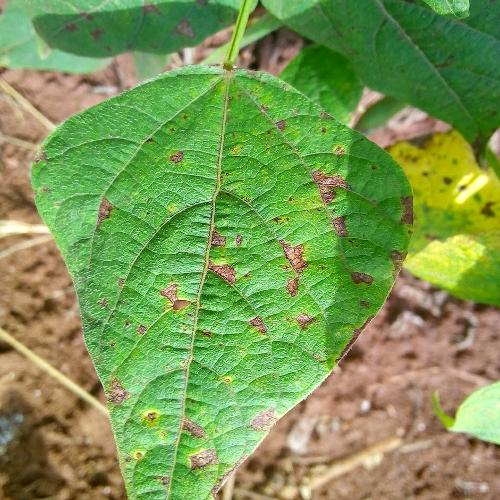hawar: (296, 153, 396, 300), (100, 373, 228, 477), (274, 207, 330, 342), (178, 209, 254, 293), (227, 394, 286, 440), (159, 271, 202, 322), (79, 198, 124, 242), (156, 150, 191, 165)
